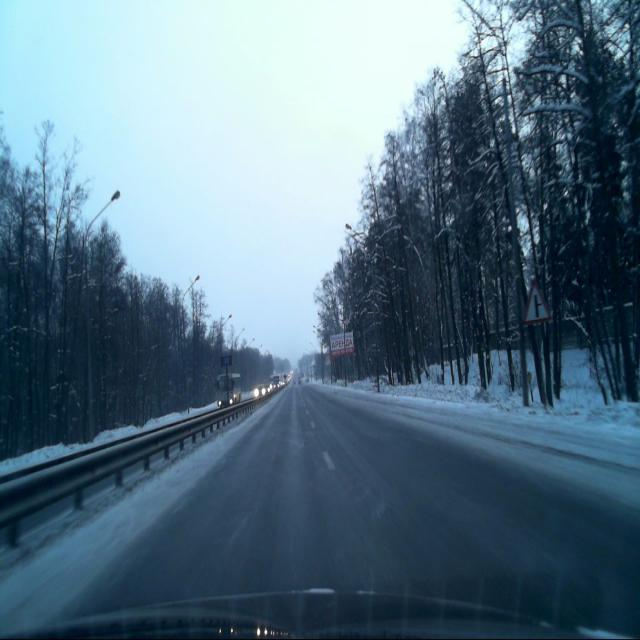road sign: (524, 280, 551, 325)
